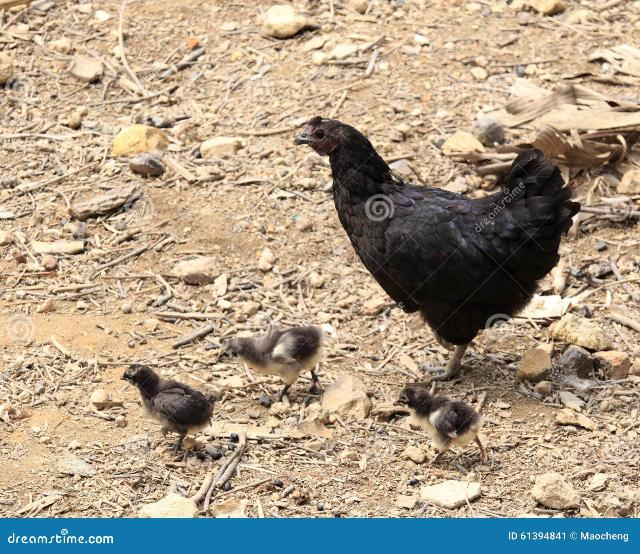Chicken: (292, 112, 581, 382)
